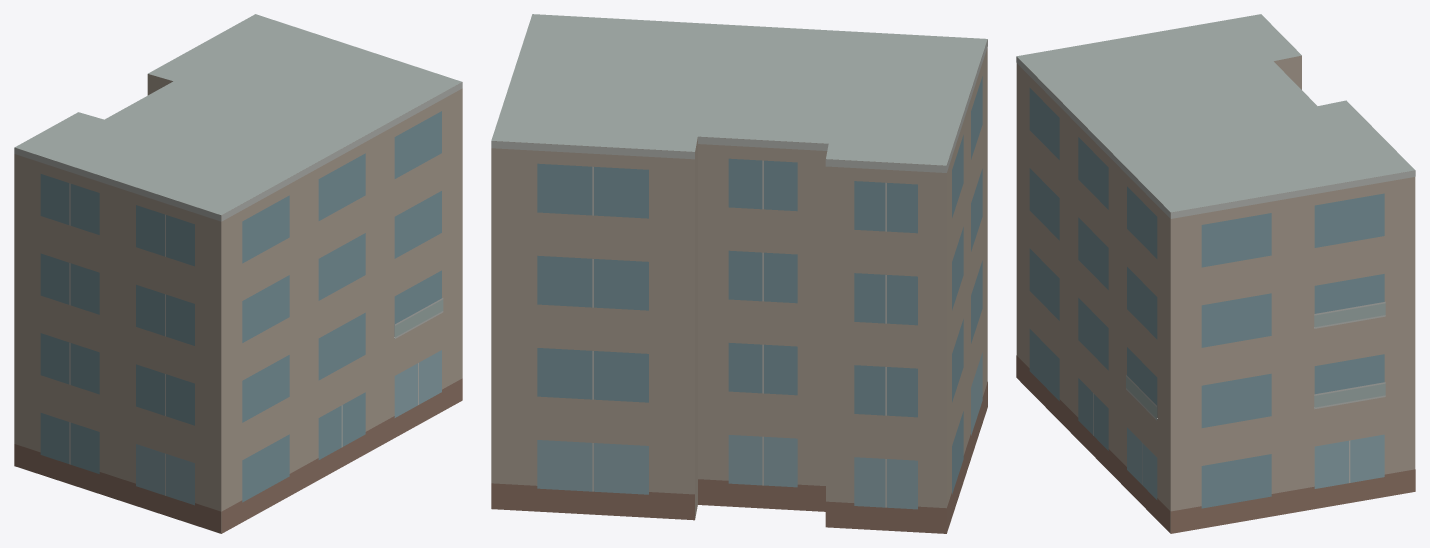
The model's file is survey-upis-32709577.glb.
3 views of the same model, side by side, from view 1: azimuth 30°, elevation 25°; view 2: azimuth 150°, elevation 25°; view 3: azimuth 270°, elevation 25° (orthographic). The views are drawn at different scales.
Visible parts, largest first — view 1: survey-upis-32709577.tmp; view 2: survey-upis-32709577.tmp; view 3: survey-upis-32709577.tmp.
Part boxes in pixels (box(x1,y1,x2,y2)): survey-upis-32709577.tmp: box(14, 14, 462, 533); survey-upis-32709577.tmp: box(491, 14, 987, 533); survey-upis-32709577.tmp: box(1016, 14, 1415, 533).
Bounding box in the file's own units: 16.04 × 12.1 × 13.62.
